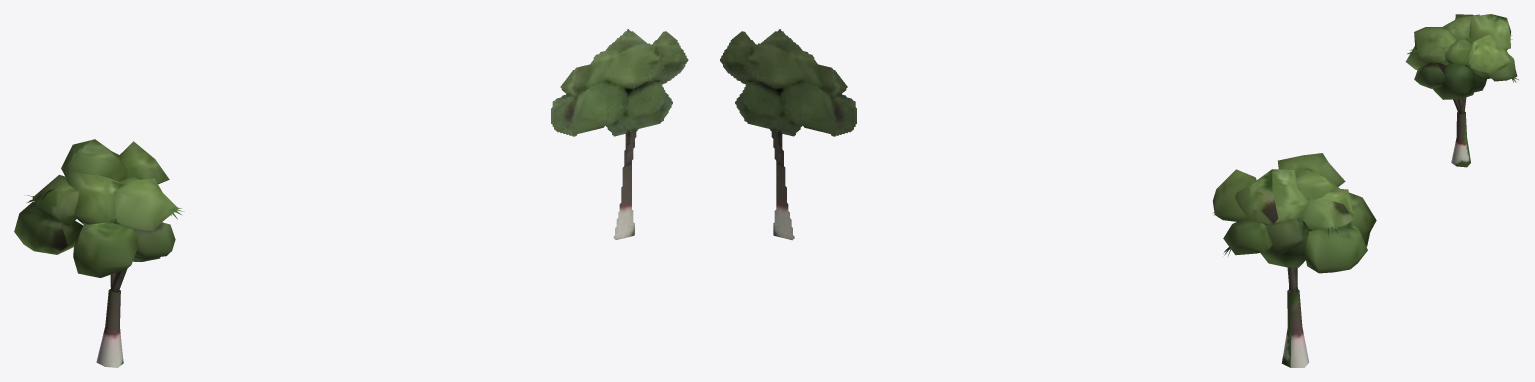
Rendered from tree_neem.glb.
The picture shows the model from 3 angles, left to right: view 1: azimuth 30°, elevation 25°; view 2: azimuth 150°, elevation 25°; view 3: azimuth 270°, elevation 25°; orthographic projection. The views are drawn at different scales.
Visible parts, largest first — view 1: tree_neem_LOD0, tree_neem_IMPOSTOR; view 2: tree_neem_LOD0, tree_neem_IMPOSTOR; view 3: tree_neem_LOD0.
Part boxes in pixels (left/top/right/bottom): tree_neem_LOD0: left=14, top=139, right=184, bottom=367; tree_neem_IMPOSTOR: left=551, top=29, right=688, bottom=239; tree_neem_LOD0: left=1212, top=153, right=1376, bottom=367; tree_neem_IMPOSTOR: left=720, top=29, right=856, bottom=240; tree_neem_LOD0: left=1405, top=14, right=1518, bottom=167.
Size of what is drawn, in the model's own units: 134 by 40.71 by 28.15.
Materials: 2 (2 with a texture image).
